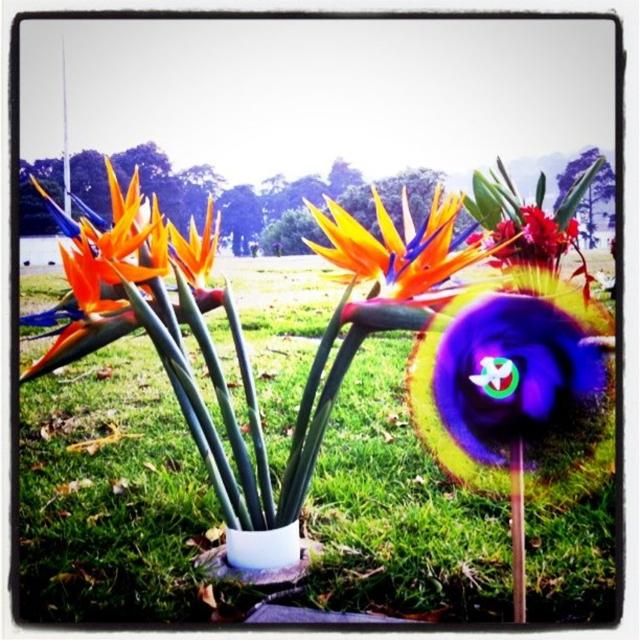Flower: (14, 160, 224, 392), (291, 195, 515, 321), (440, 202, 590, 304)
